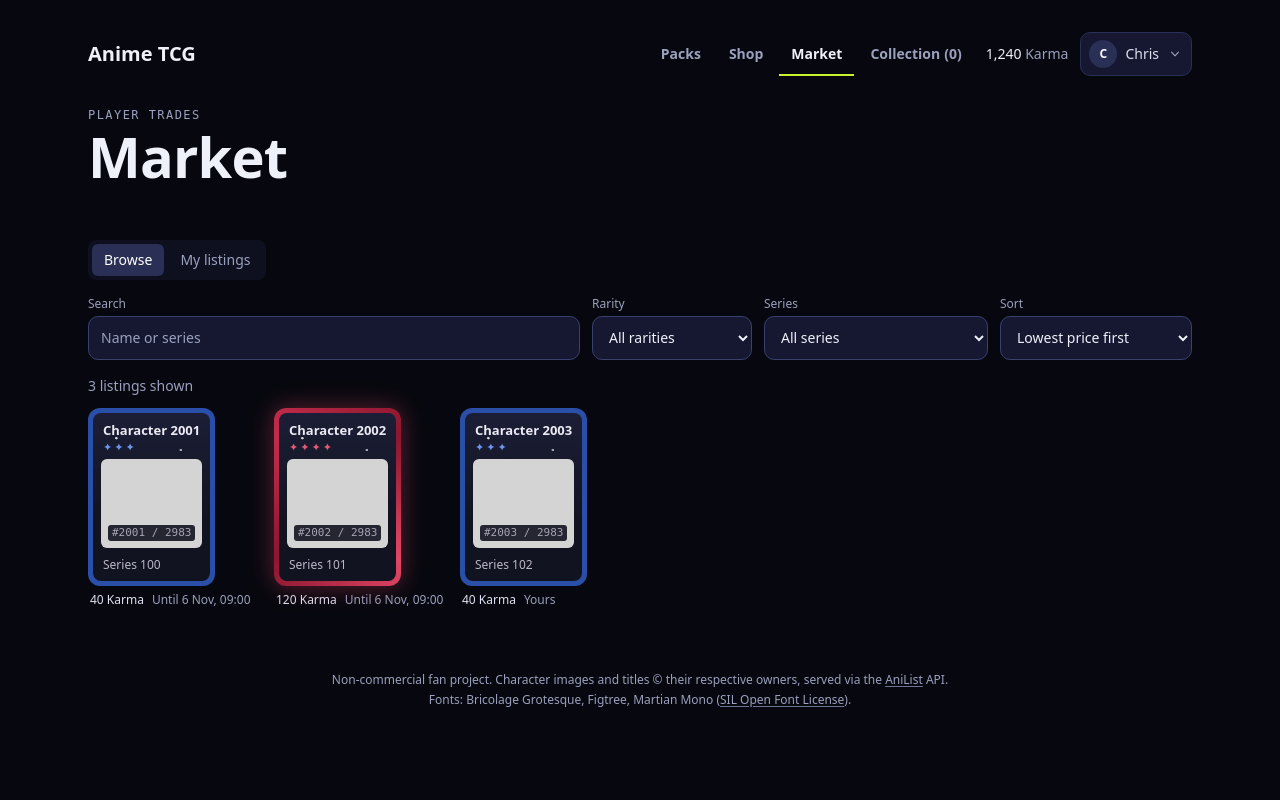
Scenario: /market: Browse (market-and-shop.md §3.4) › sends the search 300 ms after the last keystroke, trimmed, and says what matched nothing
The width and height of the screenshot is (1280, 800).
Expected: the text "3 listings shown" is shown, [88,376,193,395]
Type " zoro " into the search field labelled "Search" at [334, 338], box [88,316,580,360]
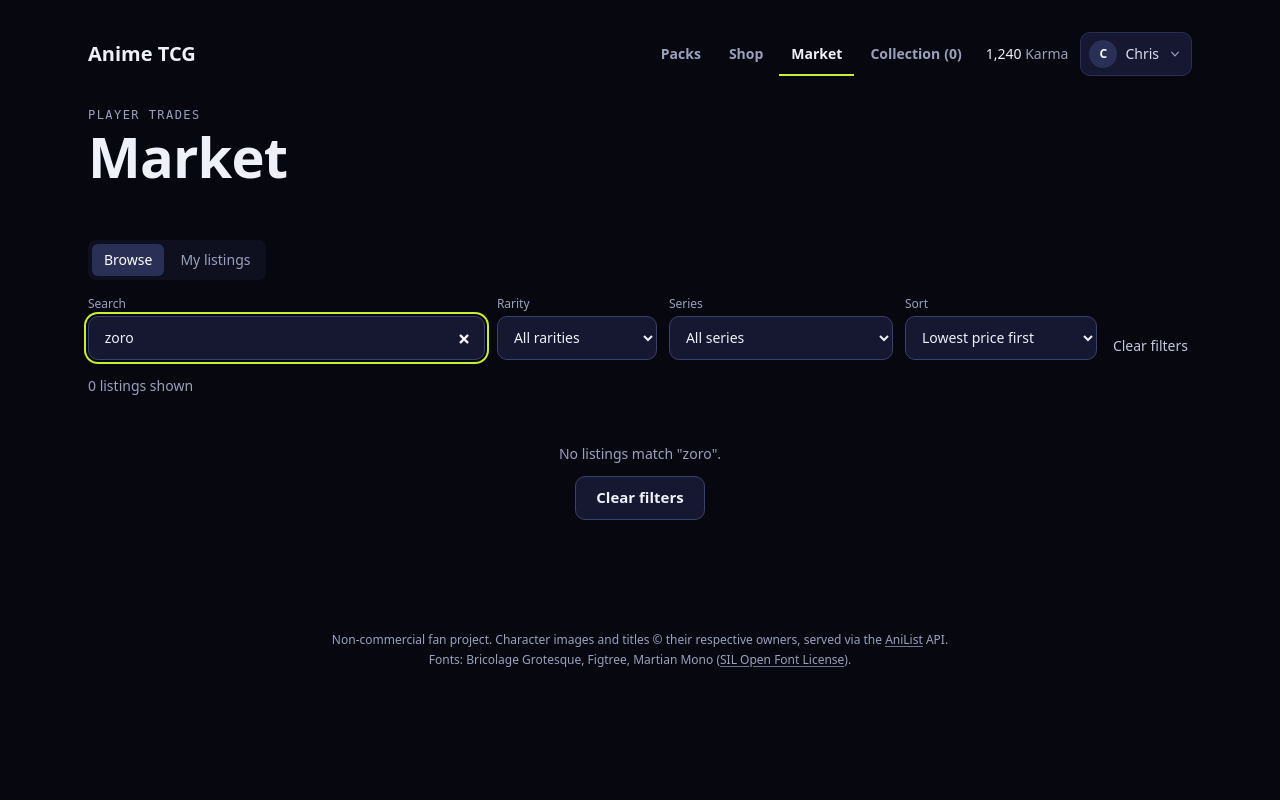
Expected: the text "No listings match \"zoro\"." is shown, [559,444,721,464]
Expected: the text "zoro" is shown, [683,444,712,463]
Note: Escape clears the search and applies at once.
Press Escape in the search field labelled "Search", box [88,316,485,360]
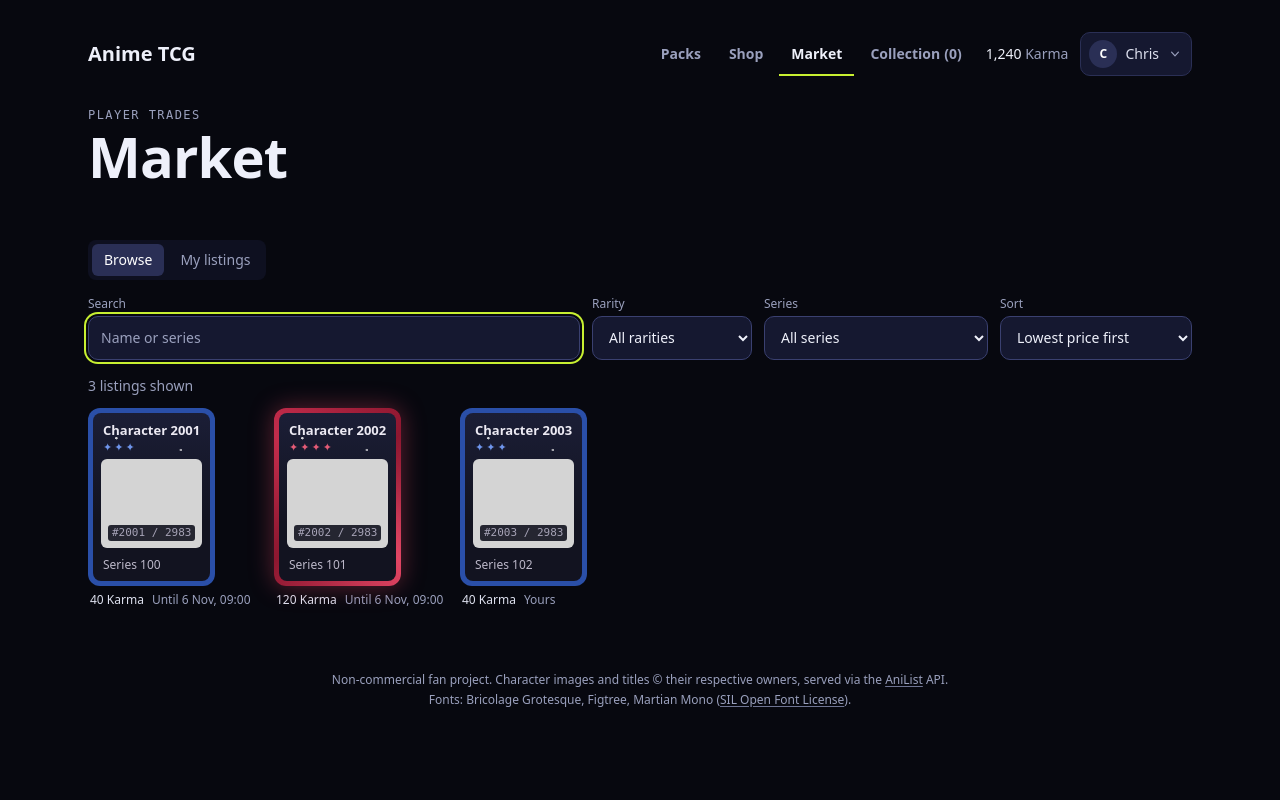
Expected: the text "3 listings shown" is shown, [88,376,193,395]
